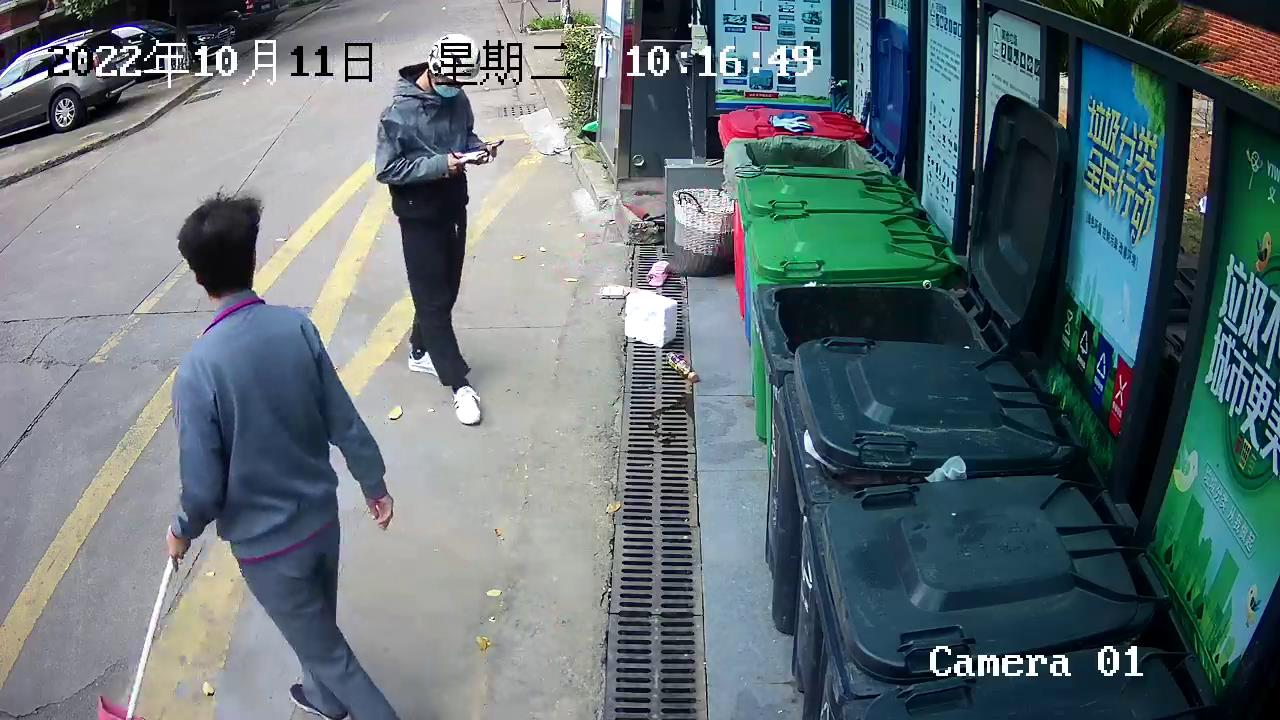person: (153, 179, 404, 720), (372, 31, 513, 429)
suliaozhipin: (662, 346, 702, 385), (642, 254, 675, 290)
zhizhipin: (621, 288, 685, 351)
